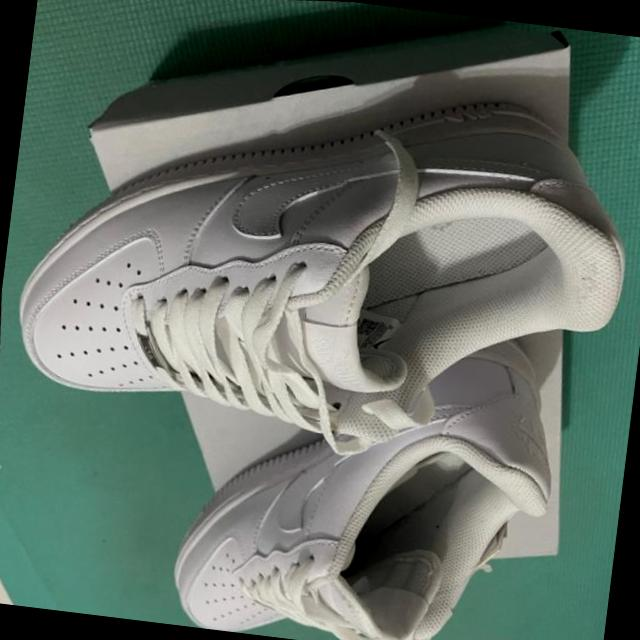nike_original_airforce: (0, 24, 640, 505), (141, 285, 615, 640)
